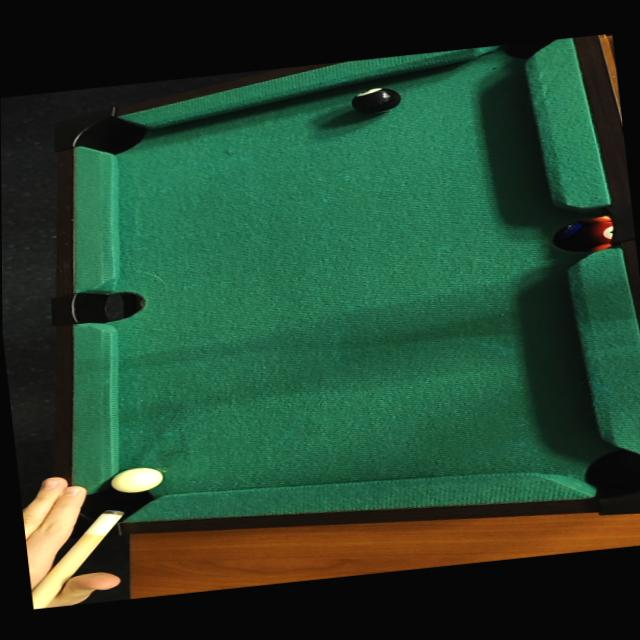cue ball: (104, 462, 167, 497)
other: (343, 84, 404, 118)
